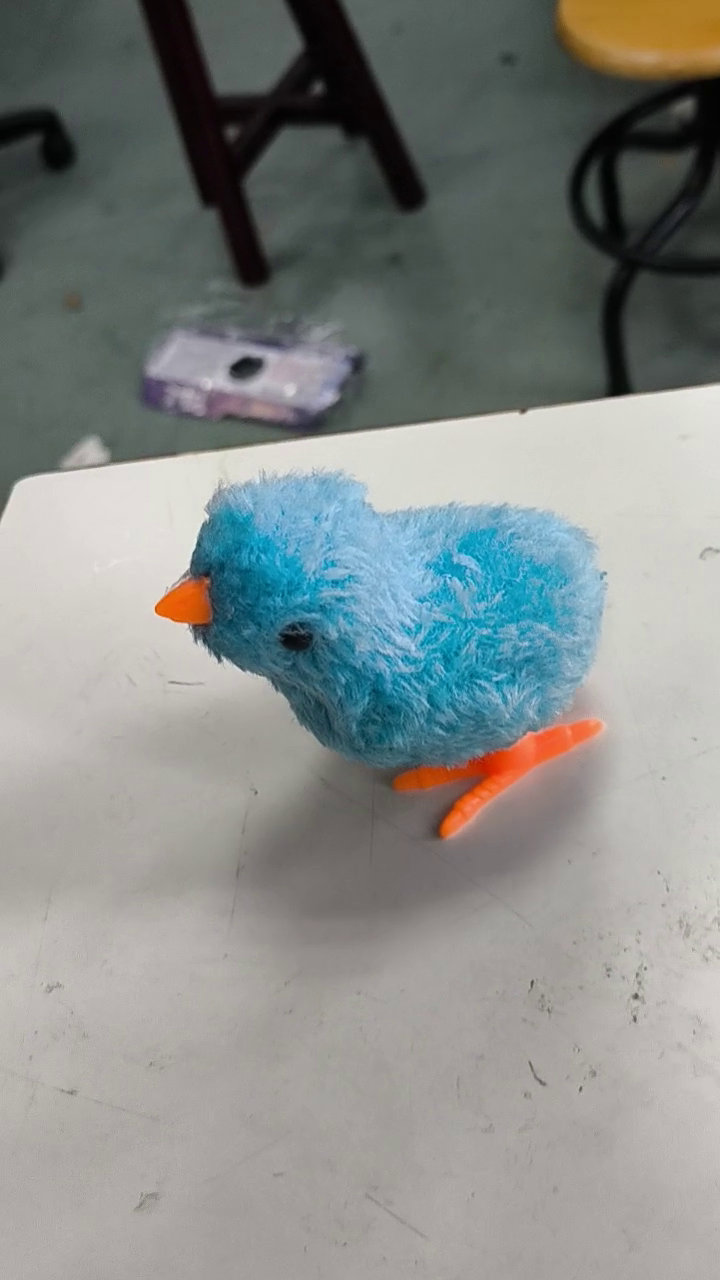blue chicken: (148, 466, 616, 851)
